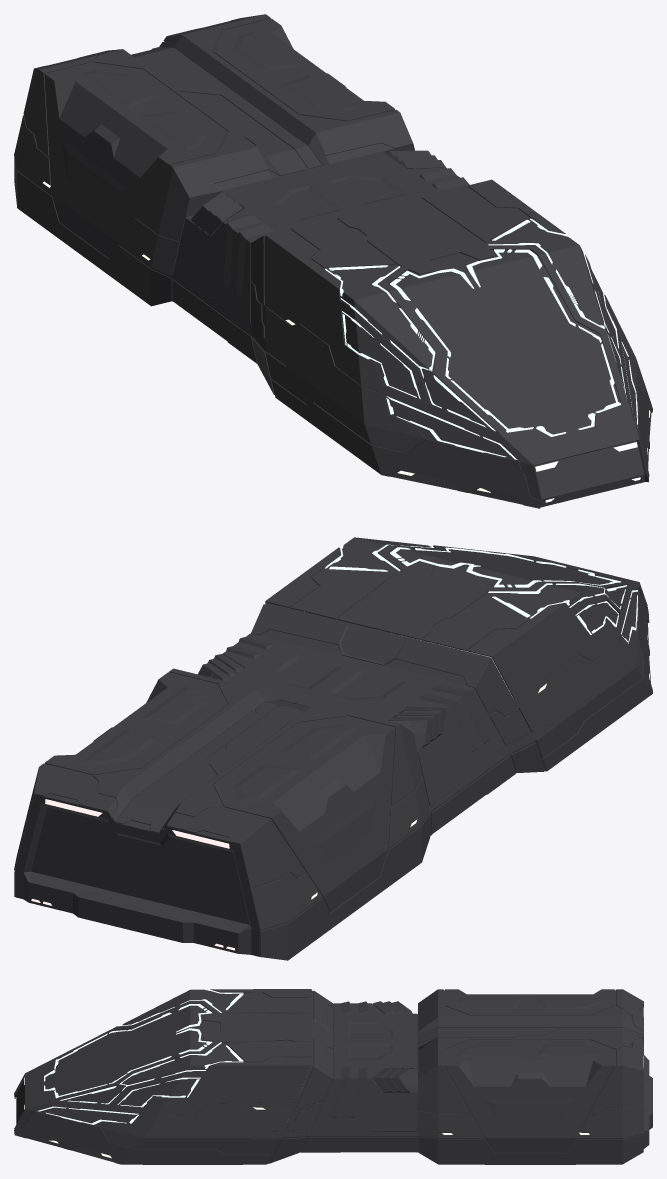
Rendered from tide-train.glb.
The picture shows the model from 3 angles, top to bottom: view 1: azimuth 30°, elevation 25°; view 2: azimuth 150°, elevation 25°; view 3: azimuth 270°, elevation 25°; orthographic projection. The views are drawn at different scales.
Visible parts, largest first — view 1: body, glow; view 2: body, glow; view 3: body, glow.
Part boxes in pixels (x1,y1,x2,y2): body: (14,14,652,508); glow: (43,181,650,502); body: (14,537,652,960); glow: (31,544,650,950); body: (14,989,652,1164); glow: (15,989,649,1158).
Size of the model in its own units: 2.42 by 1.22 by 7.16.
